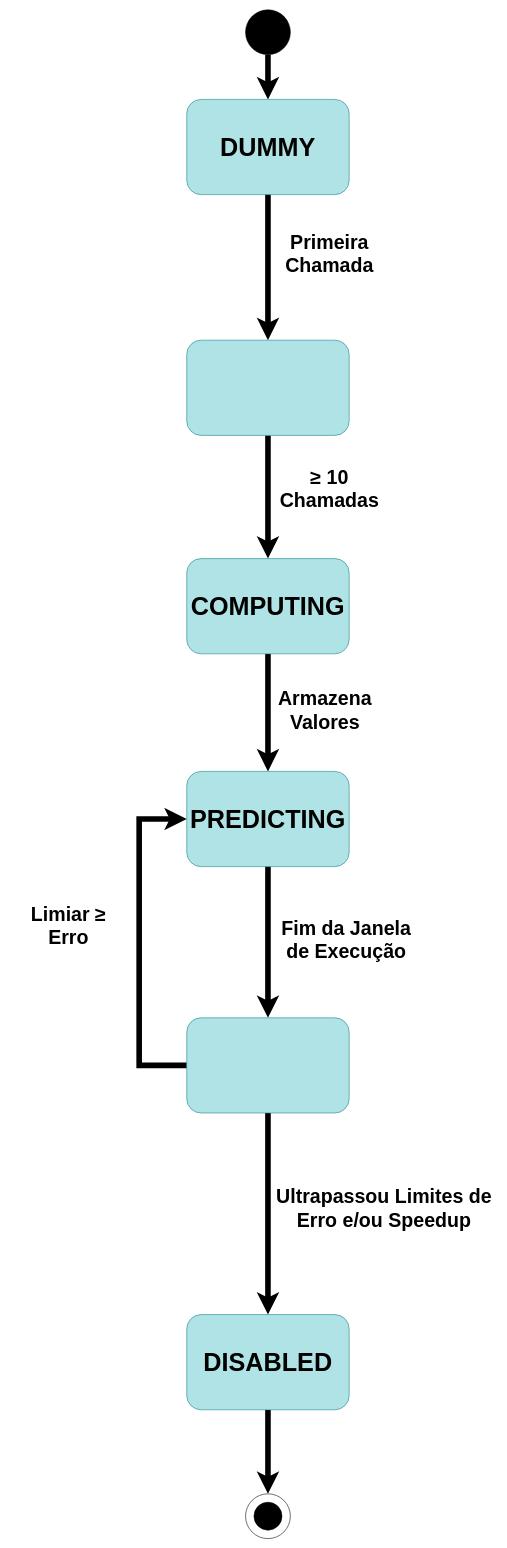
Some shapes in this 507 by 1548 pixel diagram are drawn without their labels. Here are the shapes that lost their labels. From the top down, the box of each, then its label:
(186, 340, 349, 435): WARMUP
(186, 1017, 349, 1113): VALIDATING
